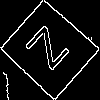Z: (24, 24, 79, 78)
